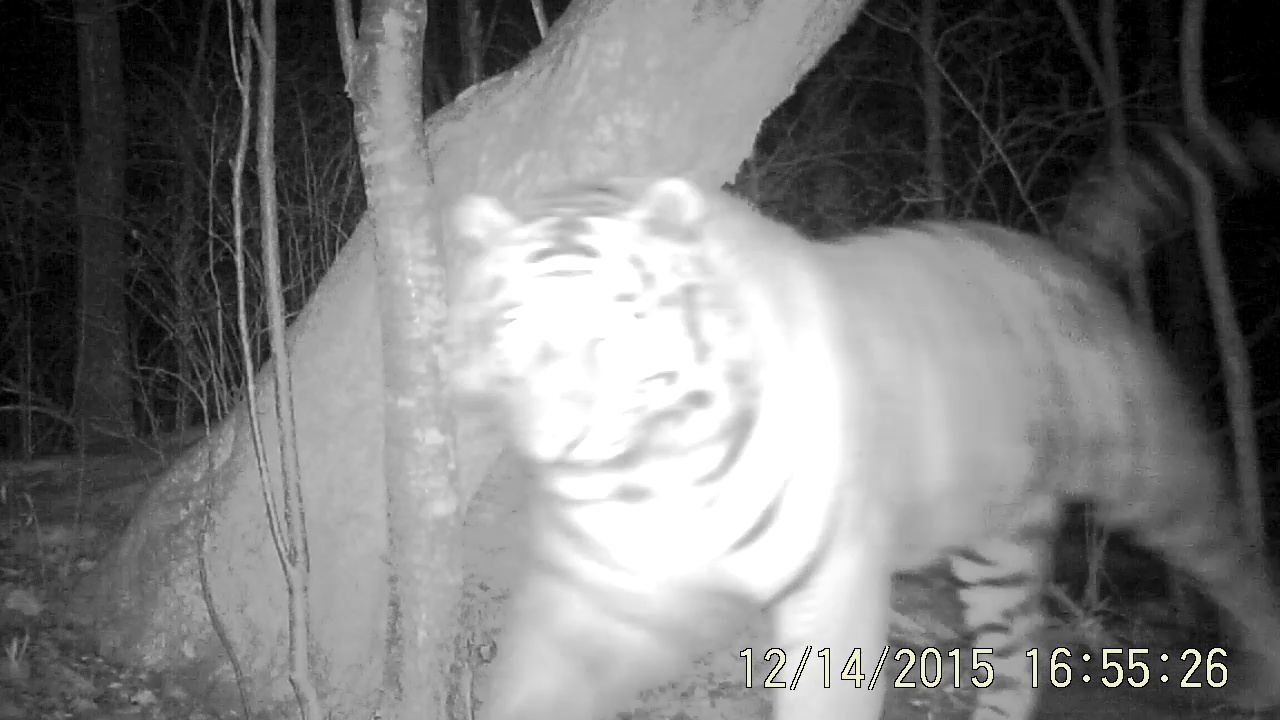Tiger: (424, 150, 1280, 632)
